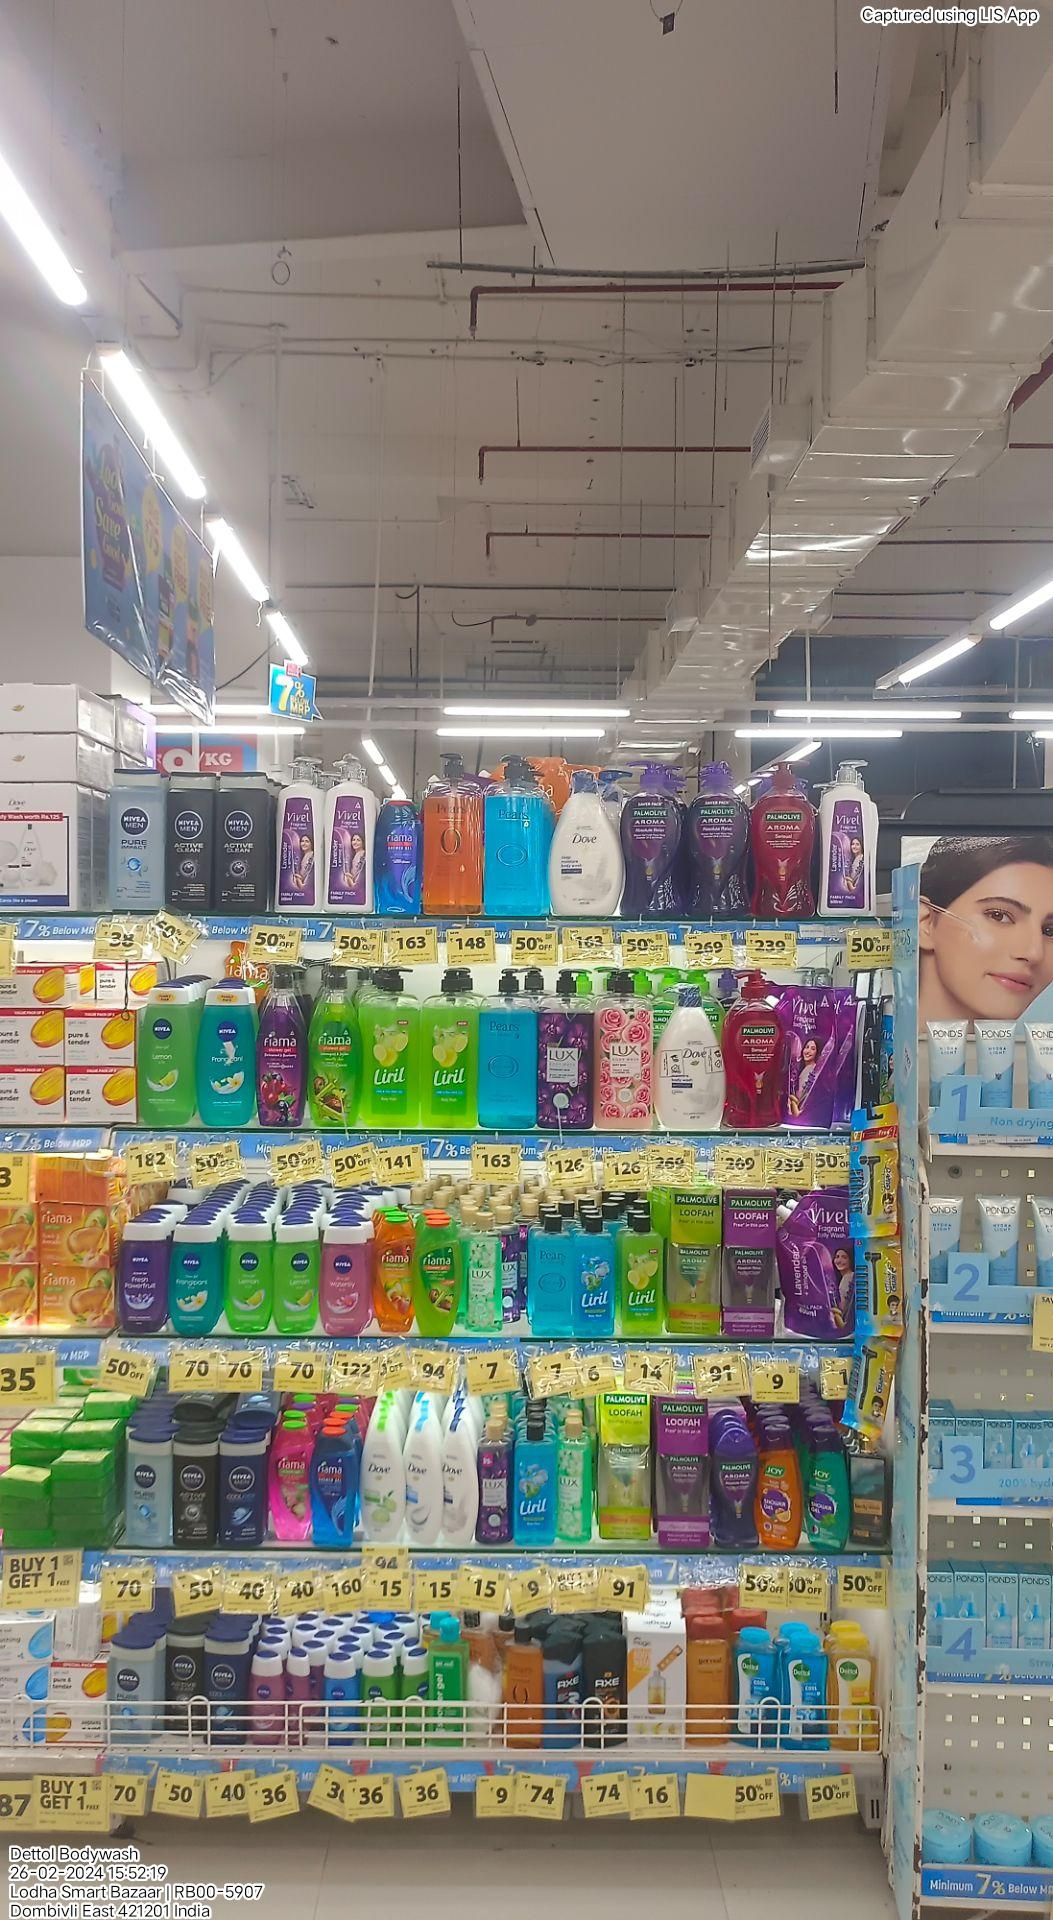Dettol_Bodywash_Cool: (778, 1631, 826, 1750), (735, 1628, 778, 1750)
Dettol_Bodywash_Refresh: (827, 1632, 878, 1749)
Dove_Deep_Moisture_Body_Wash_250ML: (446, 1420, 476, 1545)
Dove_Gentle_Exfoliating_Body_Wash_250ML: (406, 1418, 447, 1547)
Dove_Refreshing_Body_Wash_250ML: (362, 1416, 405, 1547)
Fiama_Shower_Gel_Lemongrass_and_Jojoba_250ML: (412, 1212, 458, 1337)
Fiama_Shower_Gel_Patchouli_and_Macadamia_250ML: (272, 1418, 309, 1545)
Get_Real_Shower_Gel_Moisturising_Glycerin_300ML: (687, 1615, 731, 1746)
Liril_Cooling_Mint_Body_Wash_250ML: (574, 1216, 617, 1335)
Nivea_Shower_Gel_Frangipani_and_Oil_250ML: (197, 984, 255, 1130), (169, 1217, 222, 1337)
Nivea_Shower_Gel_Fresh_Powerfruit_250ML: (118, 1217, 167, 1335)
Nivea_Shower_Gel_Lemon_and_Oil_250ML: (140, 984, 195, 1129), (226, 1219, 272, 1331), (274, 1220, 316, 1337), (361, 1650, 399, 1748), (401, 1649, 432, 1746)
Nivea_Shower_Gel_Waterlily_and_Oil_250ML: (323, 1224, 370, 1333), (249, 1648, 285, 1748), (285, 1644, 311, 1746)
